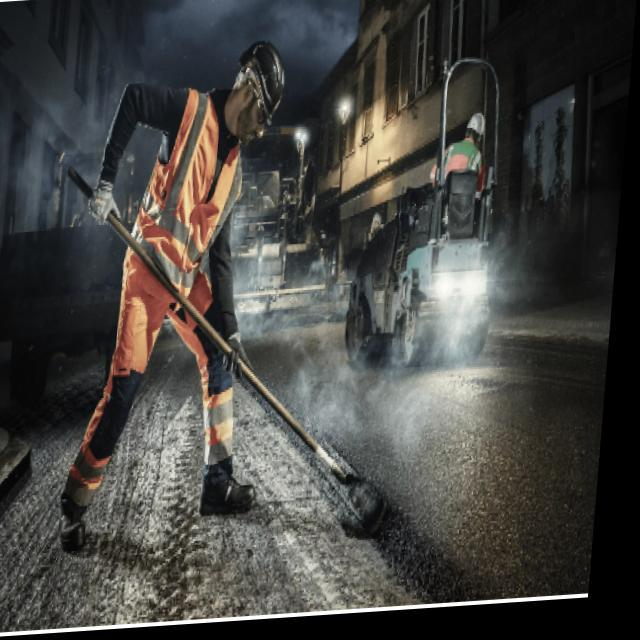boots: (52, 448, 265, 561)
helmet: (228, 34, 295, 151)
vest: (121, 67, 256, 306)
